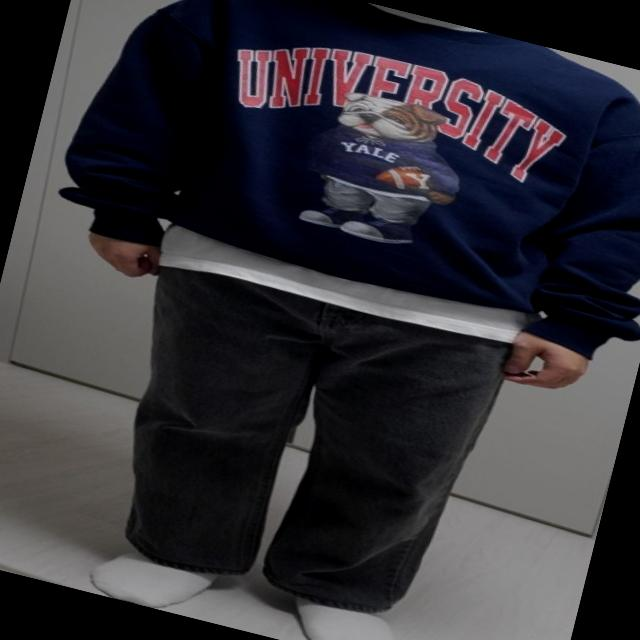denimpants: (85, 253, 513, 636)
mtm: (48, 0, 640, 358)
